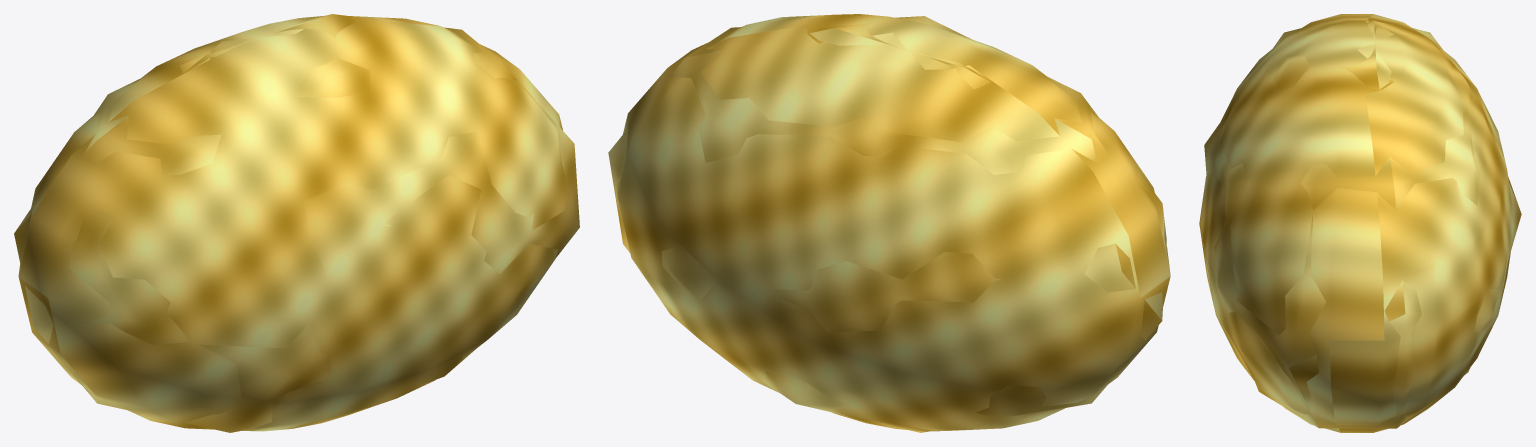
The model's file is cell_food_bacteria.fbx.
The picture shows the model from 3 angles, left to right: view 1: azimuth 30°, elevation 25°; view 2: azimuth 150°, elevation 25°; view 3: azimuth 270°, elevation 25°; orthographic projection. The views are drawn at different scales.
Visible parts, largest first — view 1: cell_food_bacteria_VIS, cell_food_bacteria_COL; view 2: cell_food_bacteria_VIS, cell_food_bacteria_COL; view 3: cell_food_bacteria_VIS, cell_food_bacteria_COL.
Boxes of the visible parts, x1,y1,x2,y2 form: cell_food_bacteria_VIS: (18,15,569,431); cell_food_bacteria_COL: (14,14,579,432); cell_food_bacteria_VIS: (616,14,1170,431); cell_food_bacteria_COL: (608,16,1166,432); cell_food_bacteria_VIS: (1199,14,1514,432); cell_food_bacteria_COL: (1204,20,1521,428).
Size of the model in its own units: 49.55 by 34.5 by 28.59.
